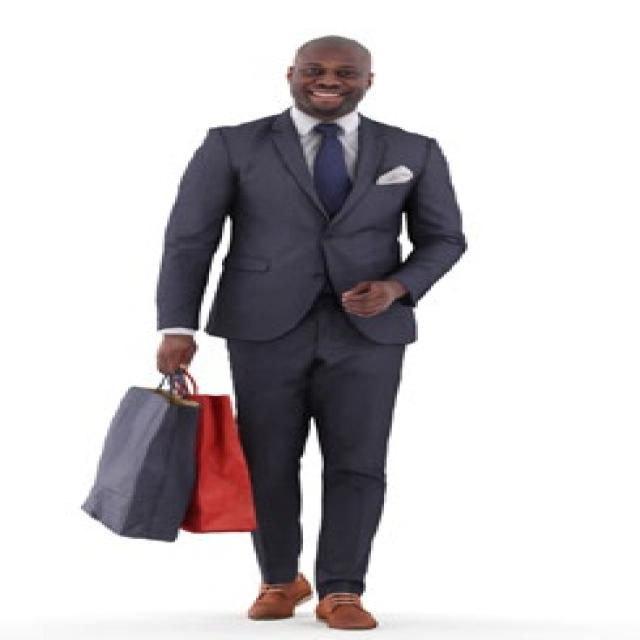standing: (154, 34, 471, 640)
